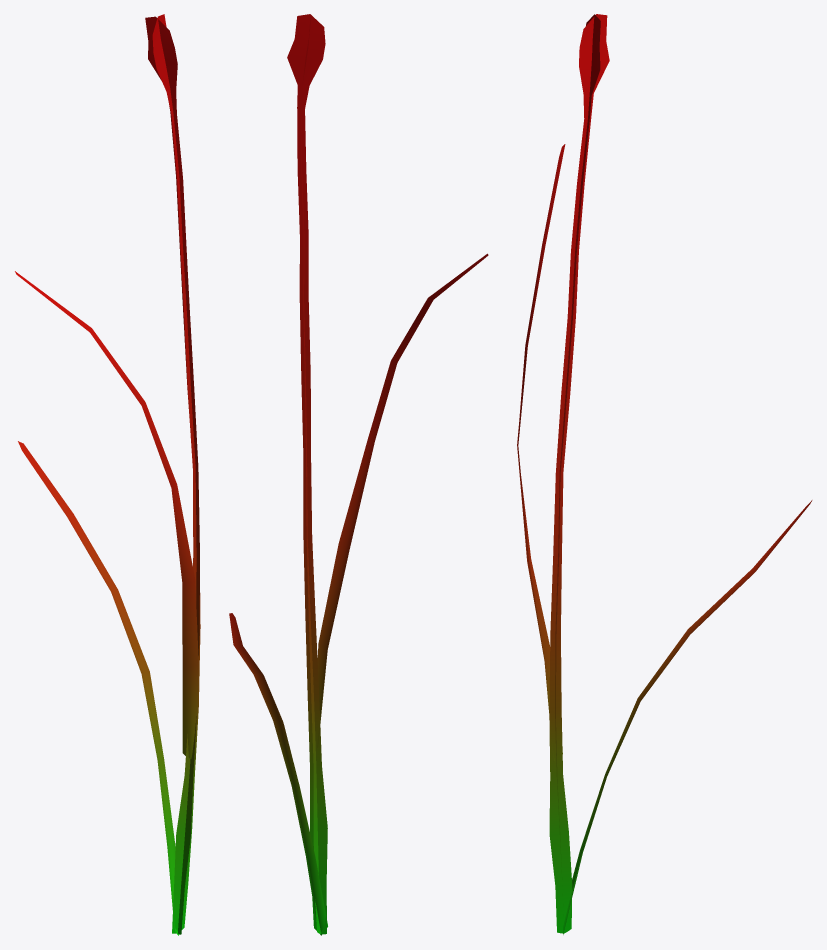
Rendered from Tundra Grass_LOD0_Var16_wk2oaeyqx.fbx.
The picture shows the model from 3 angles, left to right: view 1: azimuth 30°, elevation 25°; view 2: azimuth 150°, elevation 25°; view 3: azimuth 270°, elevation 25°; orthographic projection. The views are drawn at different scales.
Parts seen in each view (by area): view 1: _8brt_Var16_LOD0; view 2: _8brt_Var16_LOD0; view 3: _8brt_Var16_LOD0.
Part boxes in pixels (x1,y1,x2,y2): _8brt_Var16_LOD0: (15,14,200,935); _8brt_Var16_LOD0: (229,14,488,935); _8brt_Var16_LOD0: (517,14,812,934).
Bounding box in the file's own units: 4.11 × 19.61 × 5.72.
